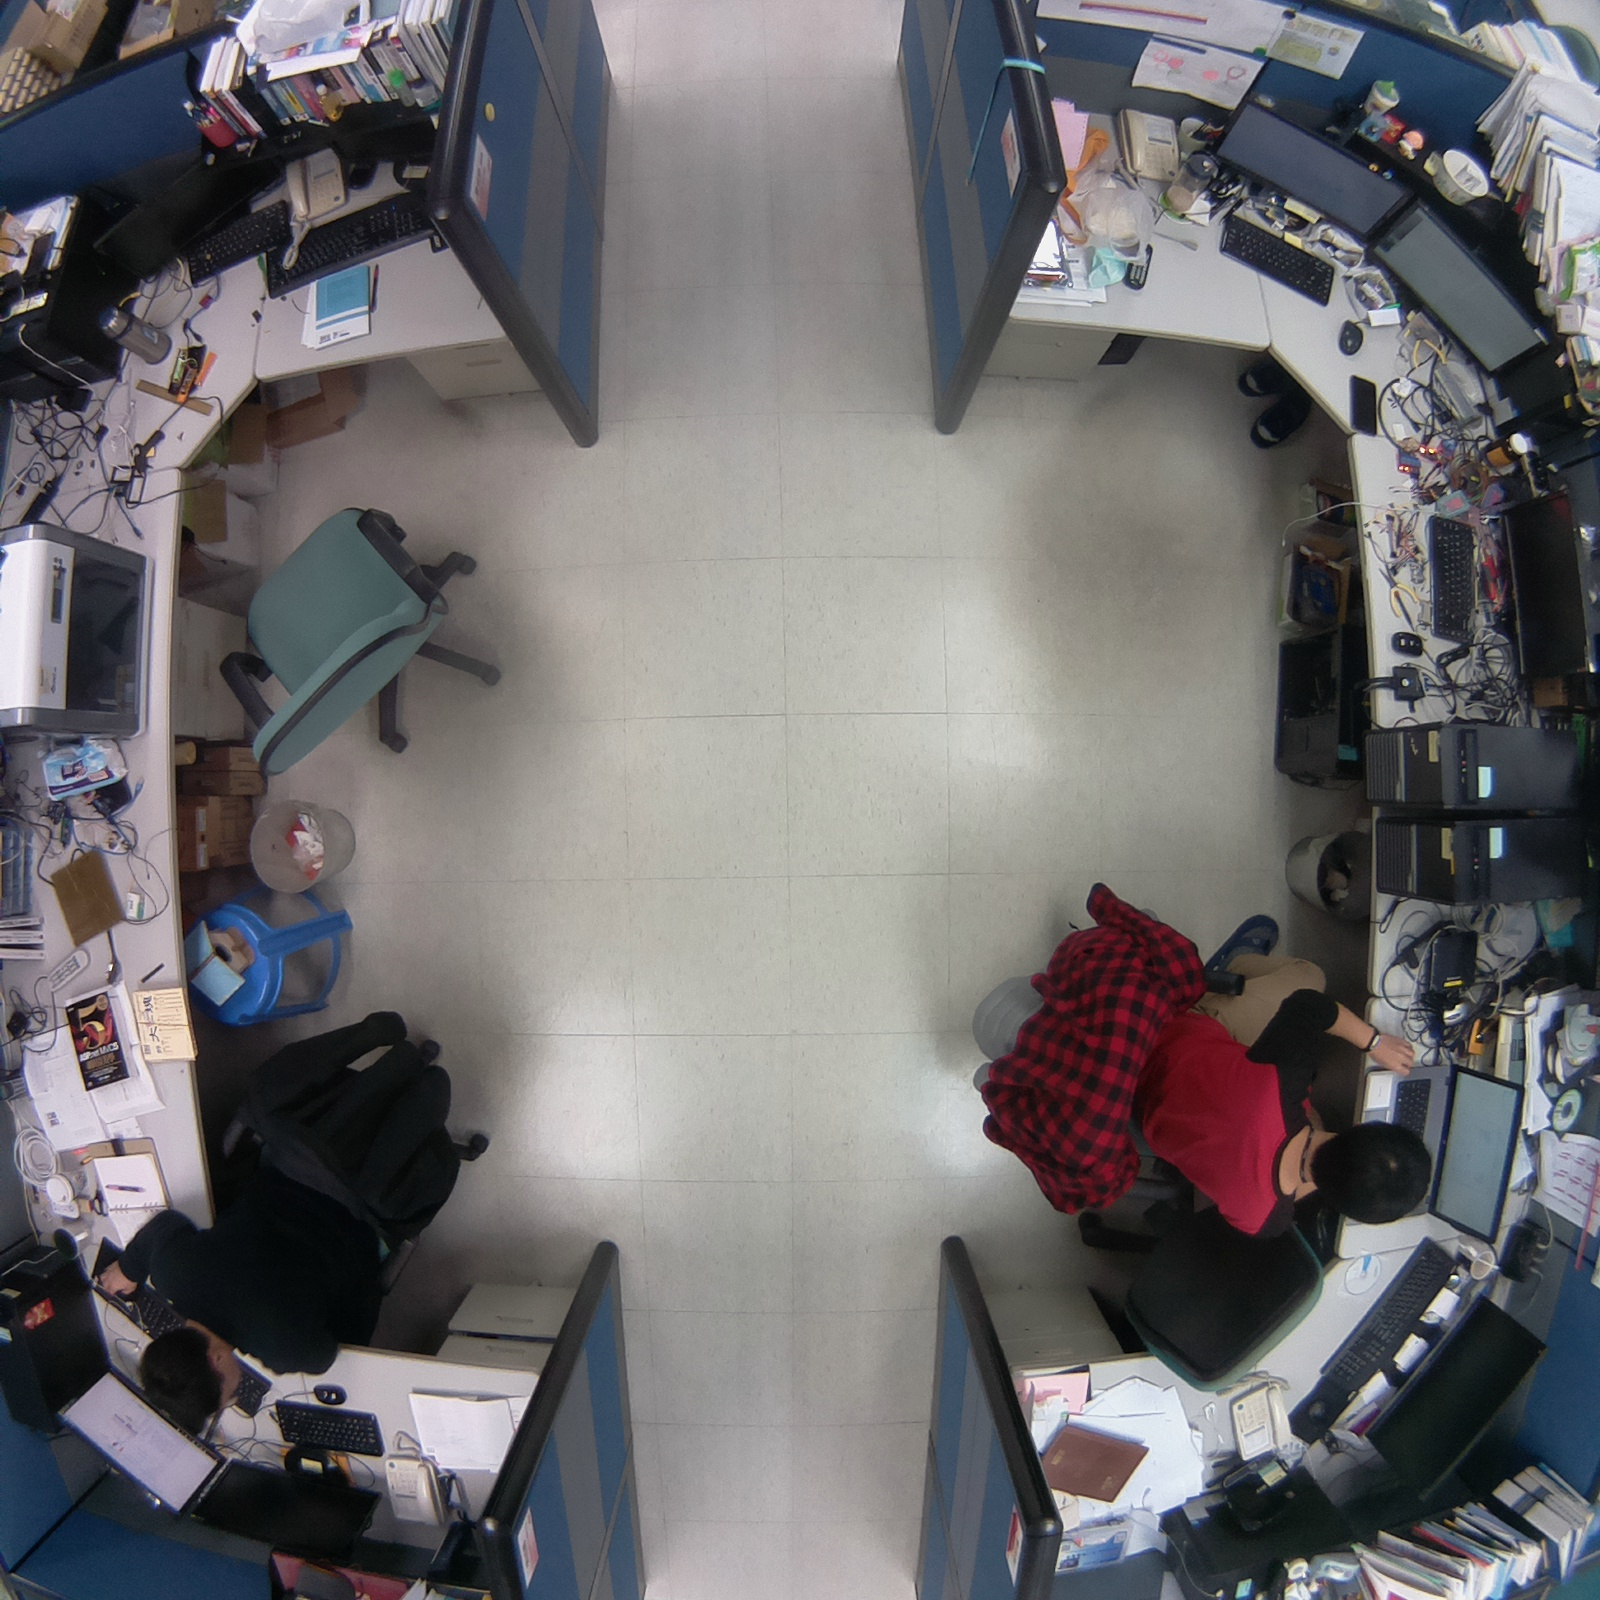chair: (206, 483, 532, 793), (1063, 1191, 1347, 1404)
head: (1308, 1108, 1442, 1236), (132, 1321, 249, 1434)
sitting: (82, 988, 509, 1427), (958, 868, 1438, 1246)
